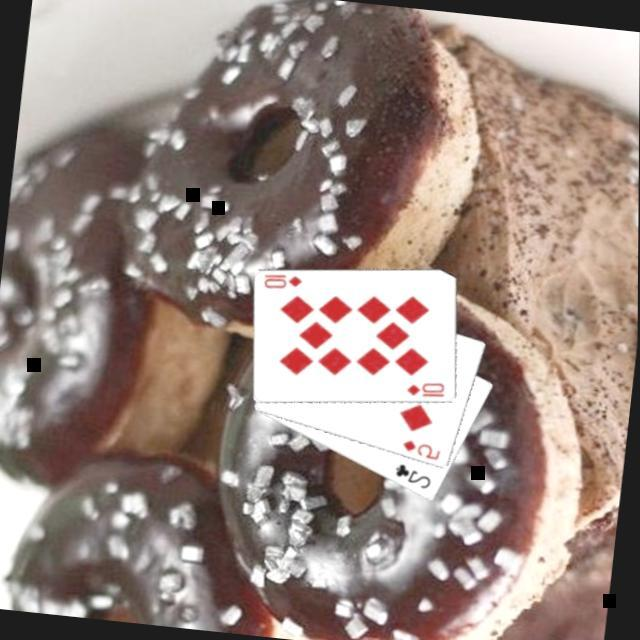10D: (259, 270, 305, 296), (402, 378, 448, 402)
2C: (389, 462, 435, 494)
5D: (398, 438, 443, 465)
